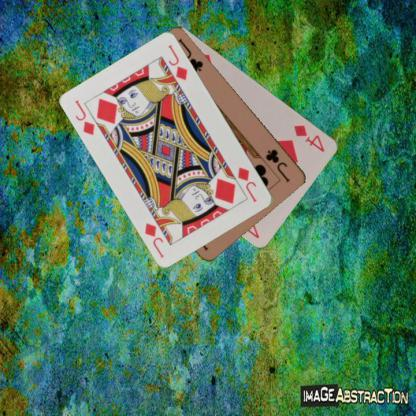4d: (292, 122, 326, 154)
Jc: (263, 146, 292, 183)
Jd: (235, 164, 258, 204), (73, 97, 96, 136)
